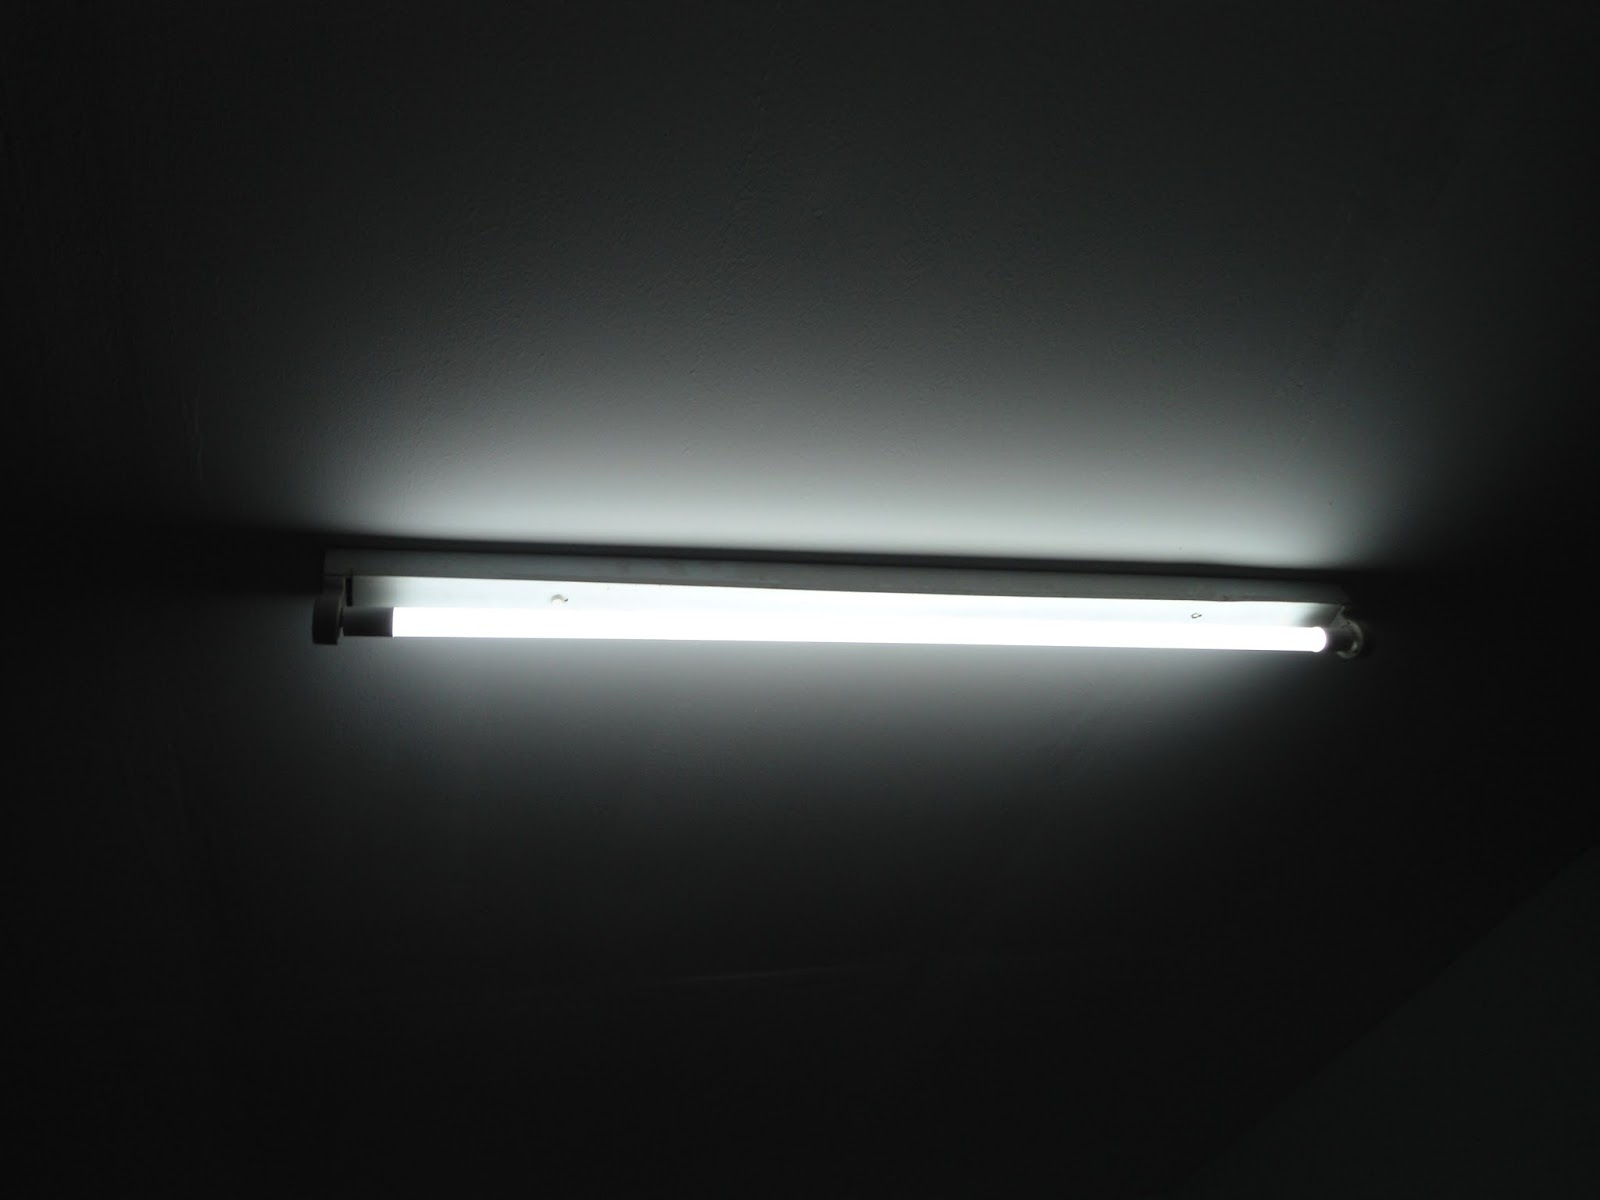Light_bulb: (330, 592, 1367, 666)
